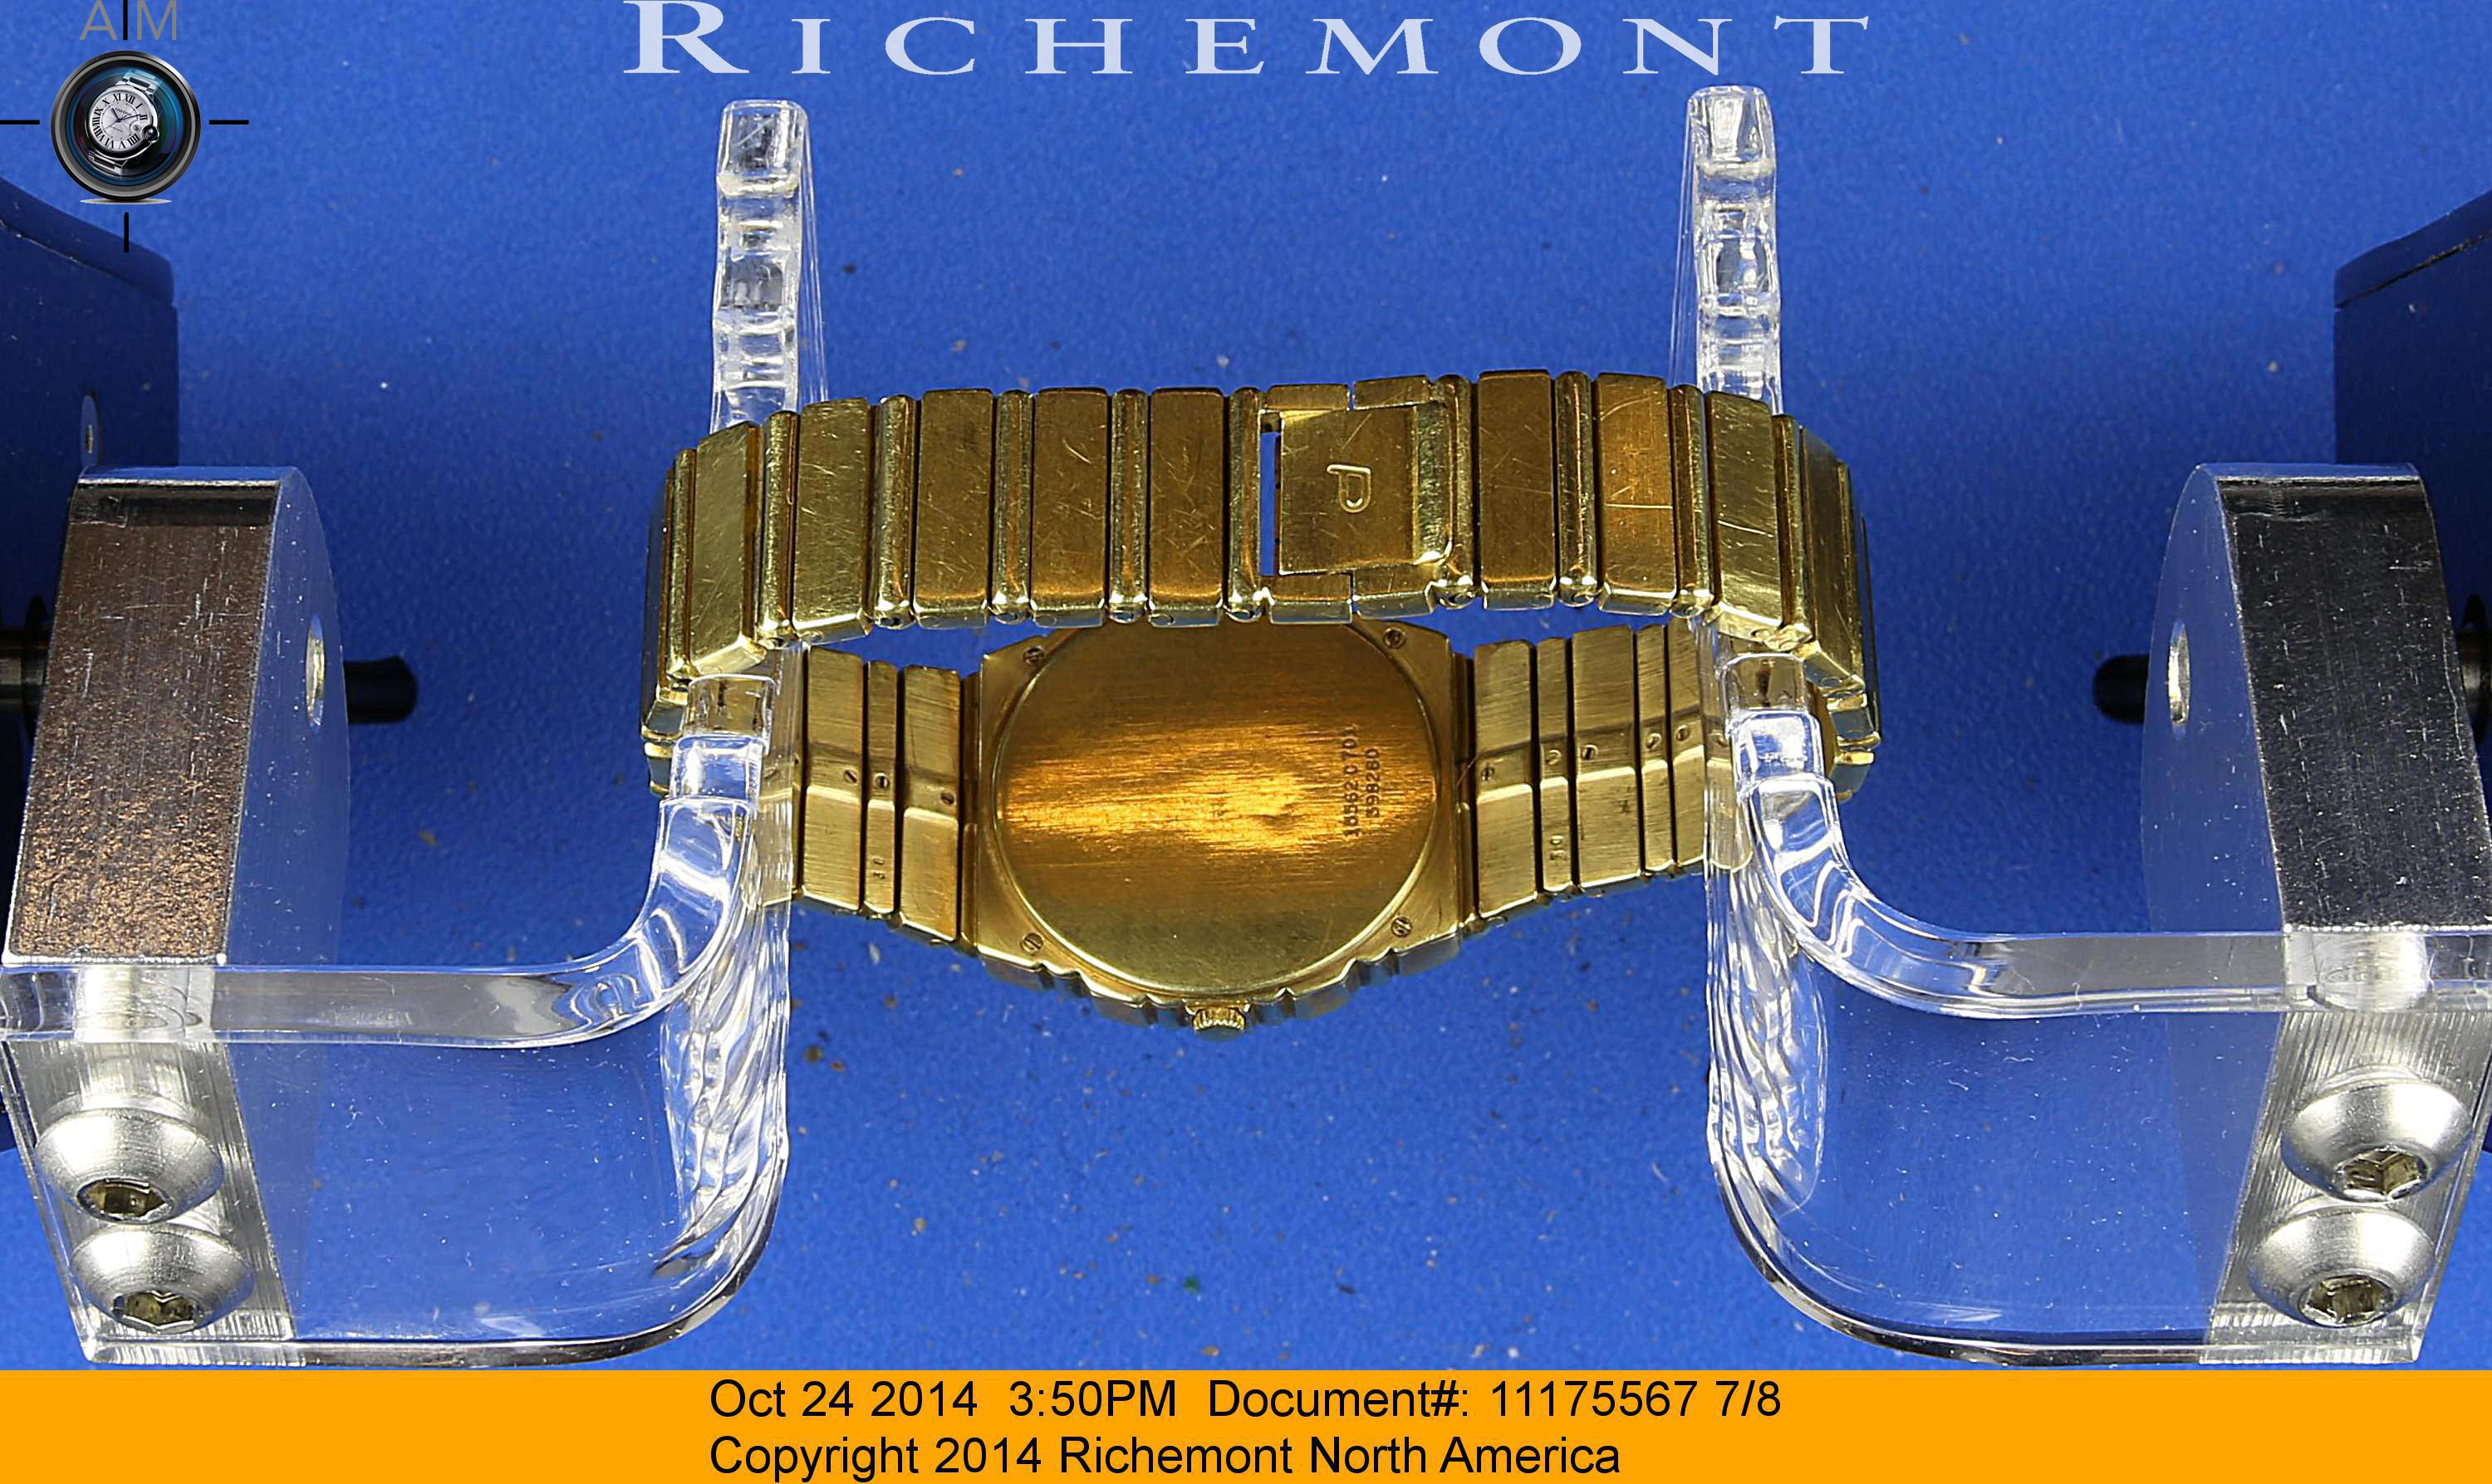Watch BackCase: (973, 631, 1484, 1056)
